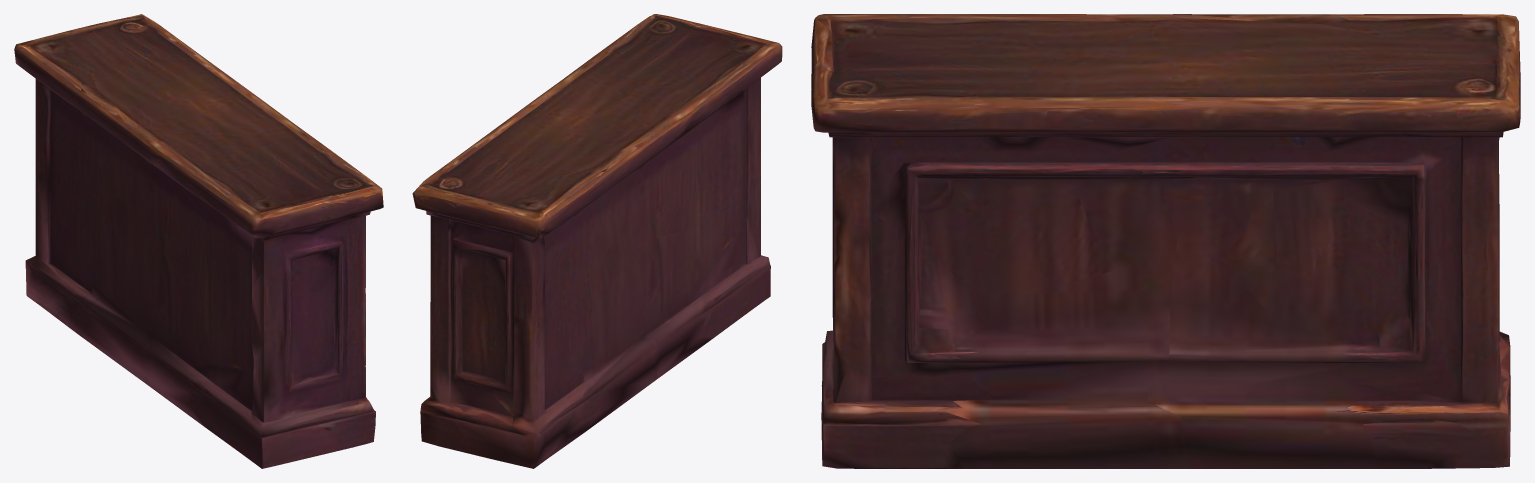
Rendered from 木制吧台柜台.glb.
3 views of the same model, side by side, from view 1: azimuth 30°, elevation 25°; view 2: azimuth 150°, elevation 25°; view 3: azimuth 270°, elevation 25° (orthographic). The views are drawn at different scales.
Visible parts, largest first — view 1: tripo_node_0b07658e-b7d5-4558-a8ff-e88c6d628ef6; view 2: tripo_node_0b07658e-b7d5-4558-a8ff-e88c6d628ef6; view 3: tripo_node_0b07658e-b7d5-4558-a8ff-e88c6d628ef6.
Part boxes in pixels (x1,y1,x2,y2): tripo_node_0b07658e-b7d5-4558-a8ff-e88c6d628ef6: (14, 14, 383, 468); tripo_node_0b07658e-b7d5-4558-a8ff-e88c6d628ef6: (412, 14, 782, 468); tripo_node_0b07658e-b7d5-4558-a8ff-e88c6d628ef6: (811, 14, 1520, 468).
Bounding box in the file's own units: 0.3155 × 0.5763 × 1.
Materials: 1 (1 with a texture image).
